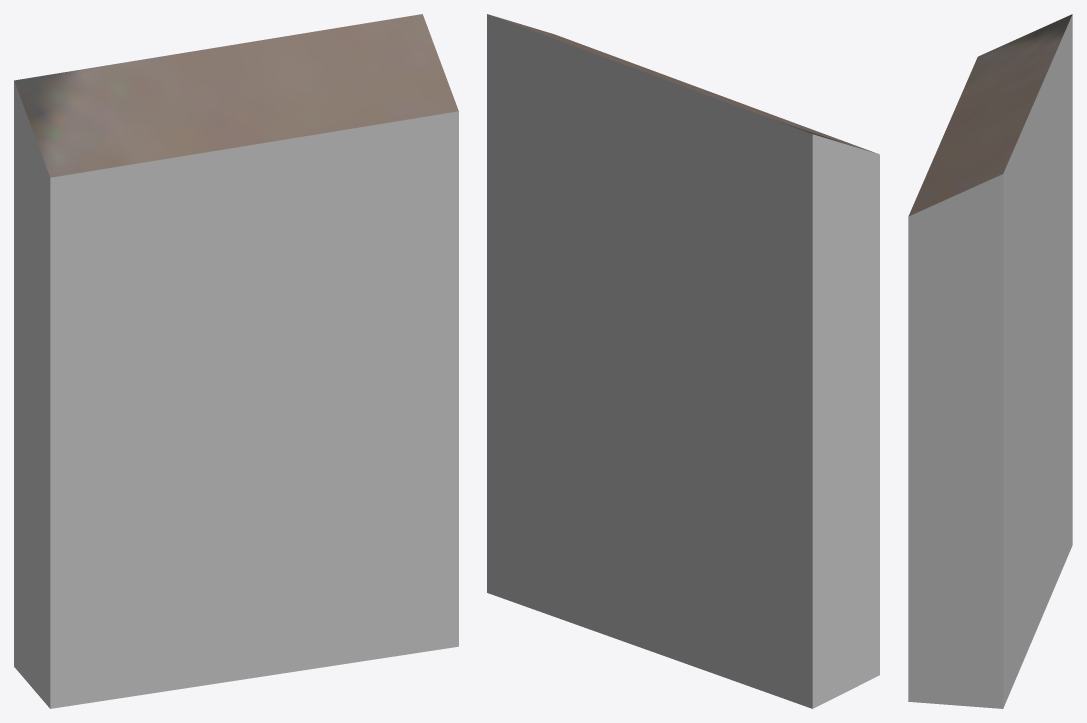
The model's file is DEBW_0010007THZN.gltf.
3 renders of one model, left to right at view 1: azimuth 30°, elevation 25°; view 2: azimuth 150°, elevation 25°; view 3: azimuth 270°, elevation 25°, orthographic. The views are drawn at different scales.
Parts seen in each view (by area): view 1: Z_UP; view 2: Z_UP; view 3: Z_UP.
Part boxes in pixels (x1,y1,x2,y2): Z_UP: (14,14,458,708); Z_UP: (487,14,879,708); Z_UP: (908,14,1072,708).
Size of the model in its own units: 7.16 by 10.45 by 2.91.
Materials: 2 (1 with a texture image).
